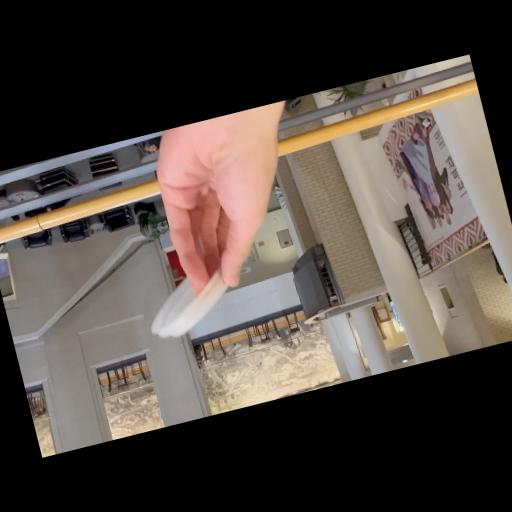lp_cup_lids: (141, 264, 238, 343)
